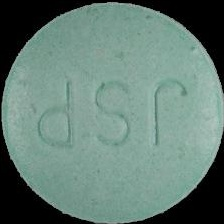51138-049: (0, 0, 224, 224)
